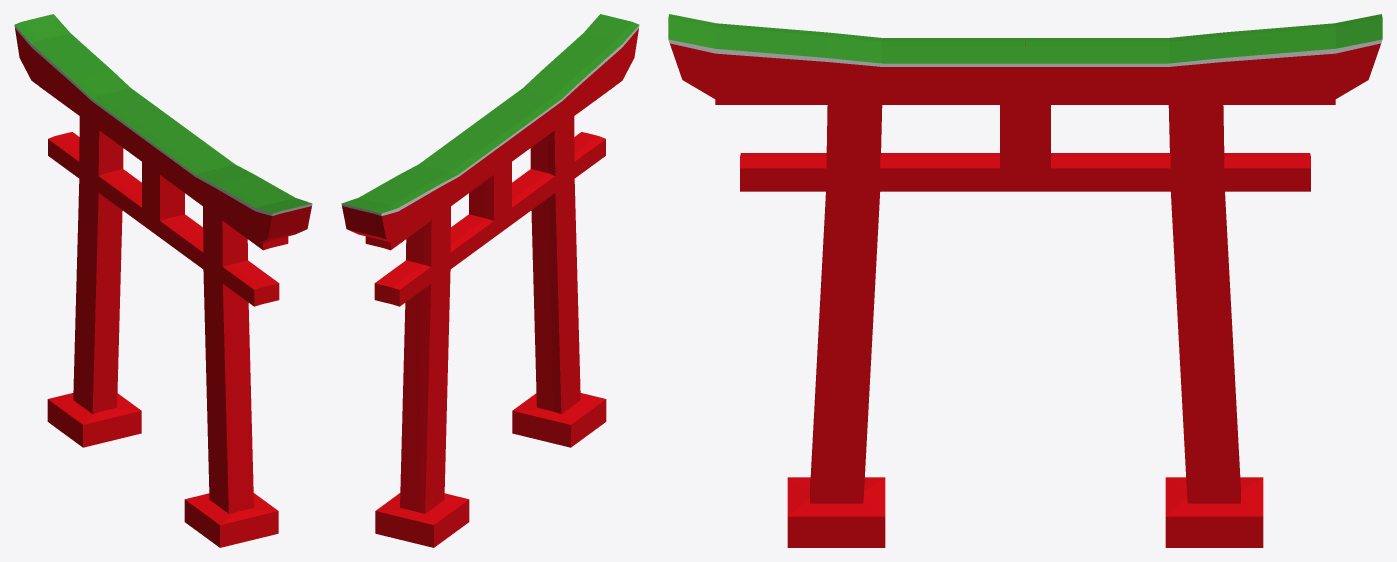
File: shintogate.fbx
The picture shows the model from 3 angles, left to right: view 1: azimuth 30°, elevation 25°; view 2: azimuth 150°, elevation 25°; view 3: azimuth 270°, elevation 25°; orthographic projection. The views are drawn at different scales.
Parts seen in each view (by area): view 1: Cube; view 2: Cube; view 3: Cube.
Boxes of the visible parts, bbox=[...] form: Cube: bbox=[14, 14, 312, 547]; Cube: bbox=[341, 14, 639, 547]; Cube: bbox=[668, 14, 1382, 547].
Size of the model in its own units: 365 by 2169 by 2795.
